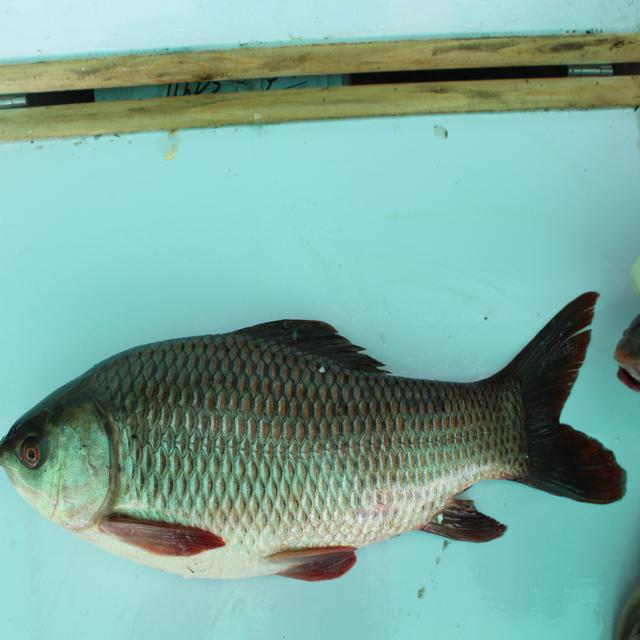Rohu: (6, 311, 638, 574)
